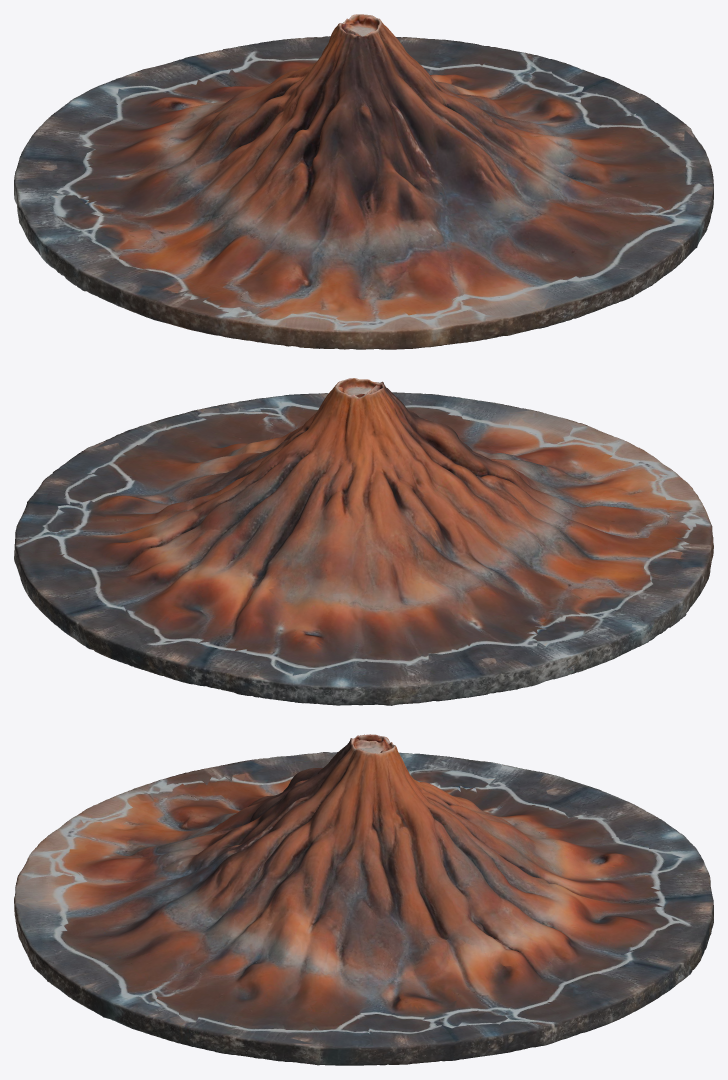
File: Vulcano.fbx
The picture shows the model from 3 angles, top to bottom: view 1: azimuth 30°, elevation 25°; view 2: azimuth 150°, elevation 25°; view 3: azimuth 270°, elevation 25°; orthographic projection.
Parts seen in each view (by area): view 1: Mesh_0; view 2: Mesh_0; view 3: Mesh_0.
Part boxes in pixels (x1=…): Mesh_0: x1=14, y1=14, x2=713, y2=349; Mesh_0: x1=14, y1=378, x2=713, y2=705; Mesh_0: x1=14, y1=734, x2=713, y2=1065.
Bounding box in the file's own units: 200 × 55.31 × 200.
Materials: 1 (1 with a texture image).
